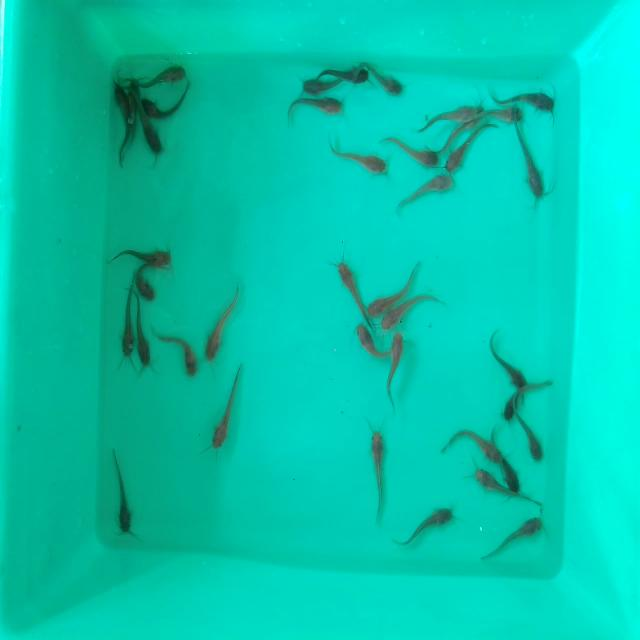lele: (480, 517, 544, 562), (211, 367, 243, 449), (324, 141, 386, 183), (514, 121, 546, 201), (394, 507, 453, 549), (438, 425, 502, 463), (489, 330, 530, 388), (207, 290, 239, 362), (400, 175, 452, 215), (384, 132, 440, 168), (382, 302, 454, 328), (448, 133, 497, 171), (334, 255, 362, 317), (112, 451, 132, 536), (388, 330, 410, 405), (368, 275, 410, 314), (368, 52, 405, 96), (163, 333, 198, 378), (370, 429, 386, 526), (280, 99, 344, 122), (112, 80, 129, 164), (341, 324, 385, 356), (143, 92, 195, 119), (415, 102, 473, 126), (519, 417, 547, 465), (134, 298, 153, 368), (136, 264, 166, 304), (511, 89, 563, 112), (319, 62, 370, 85), (470, 464, 506, 496), (292, 72, 343, 94), (119, 284, 133, 362), (107, 248, 175, 264), (501, 447, 524, 491), (502, 388, 527, 428), (141, 116, 164, 159), (142, 67, 186, 84), (128, 80, 139, 148), (465, 100, 489, 129), (485, 108, 526, 124)
